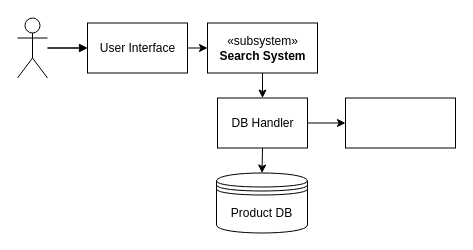
Some shapes in this 473 by 250 pixel diagram are drawn without their labels. Here are the shapes that lost their labels. From the top down, the centre of each, then its label:
pixel 32 47: User
pixel 400 122: «other system» Item Display System
